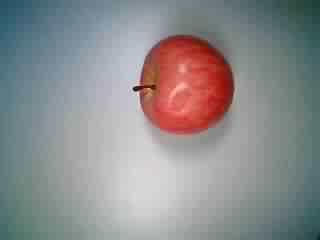apple: (131, 32, 236, 134)
